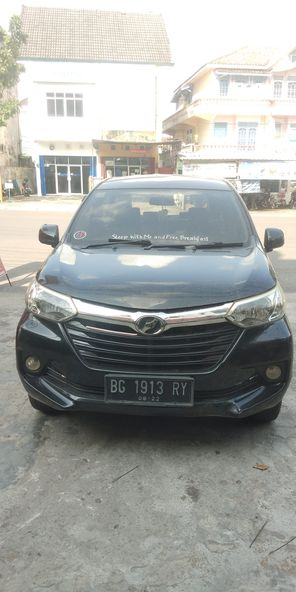plate: (99, 373, 203, 410)
